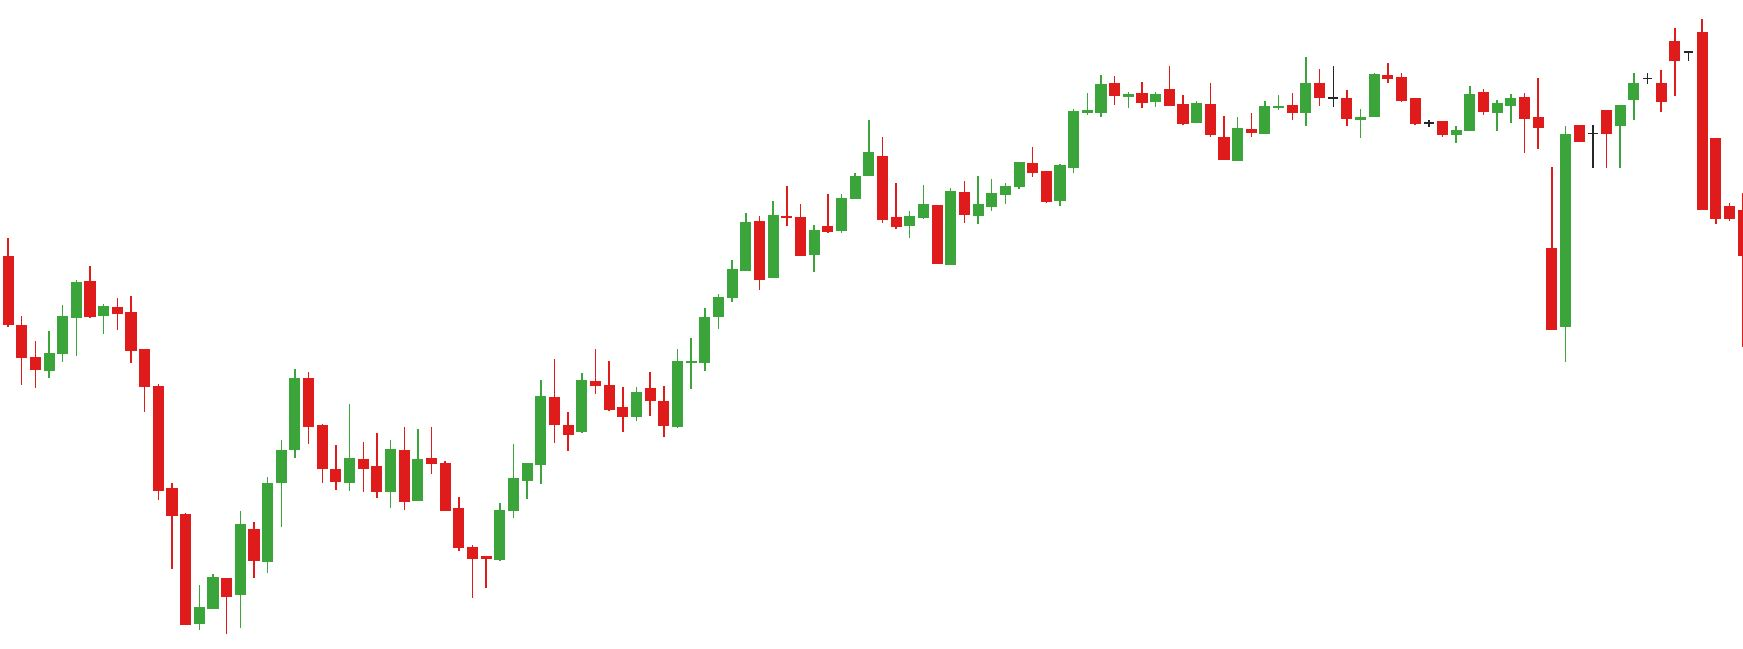sell: (1461, 78, 1543, 140)
